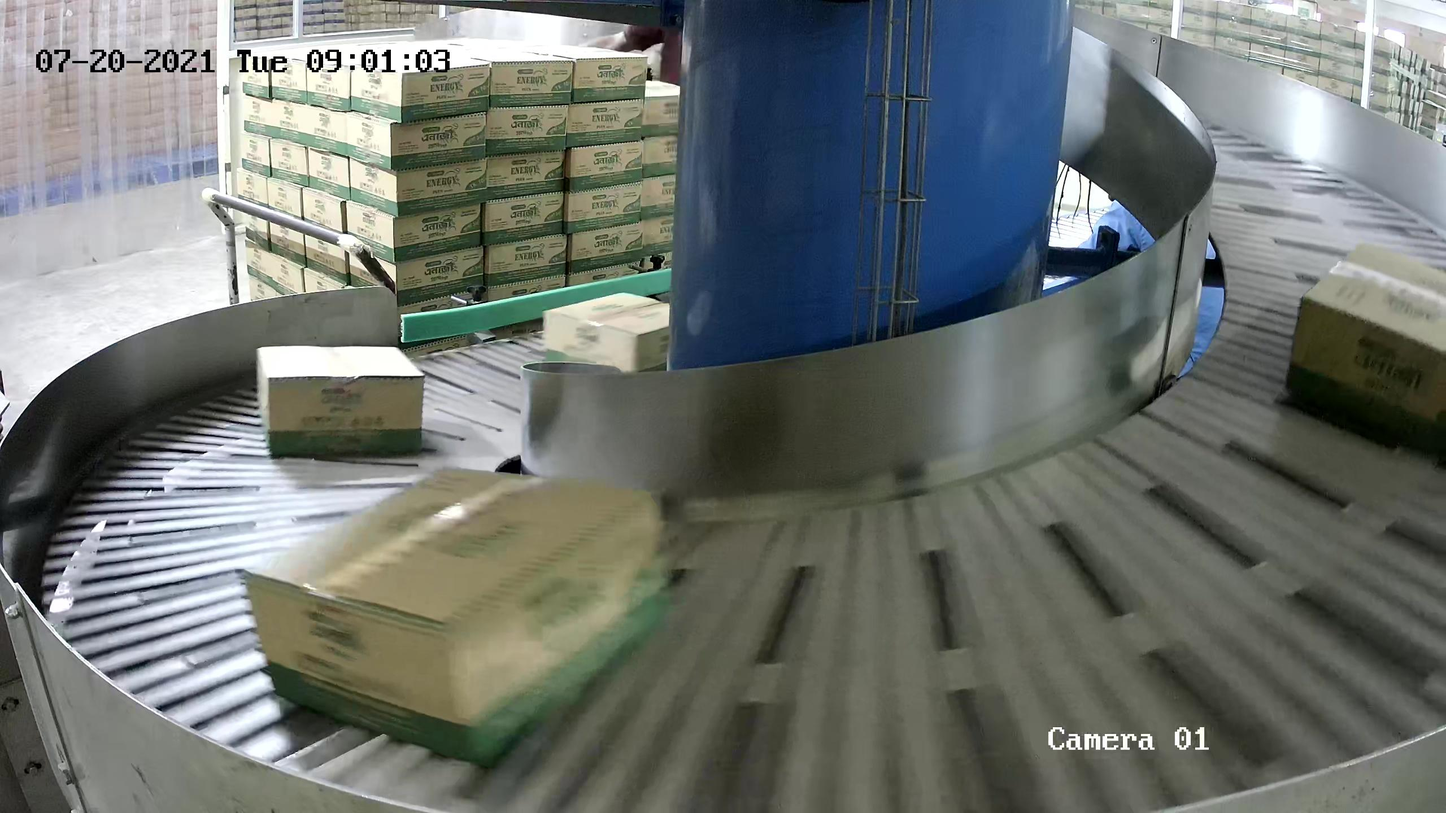Box: (237, 460, 676, 769), (1282, 237, 1446, 453), (254, 344, 426, 460), (541, 291, 671, 378)
